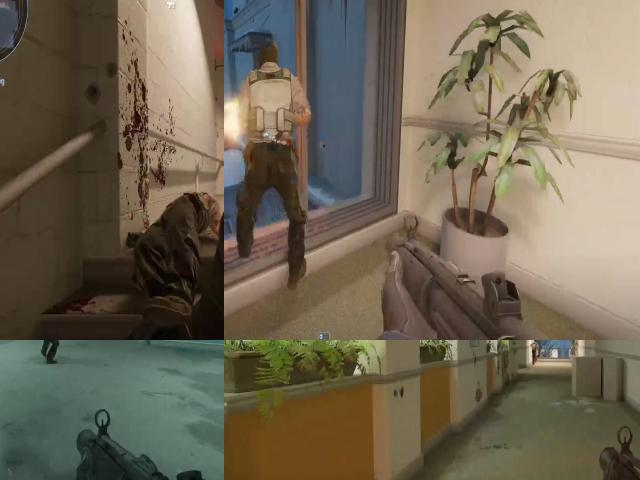Dead: (128, 140, 218, 320)
T: (237, 42, 304, 170), (531, 340, 538, 361)
T-Head: (256, 42, 284, 80), (532, 340, 536, 347)
